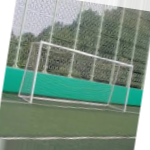goals: (16, 39, 134, 113)
